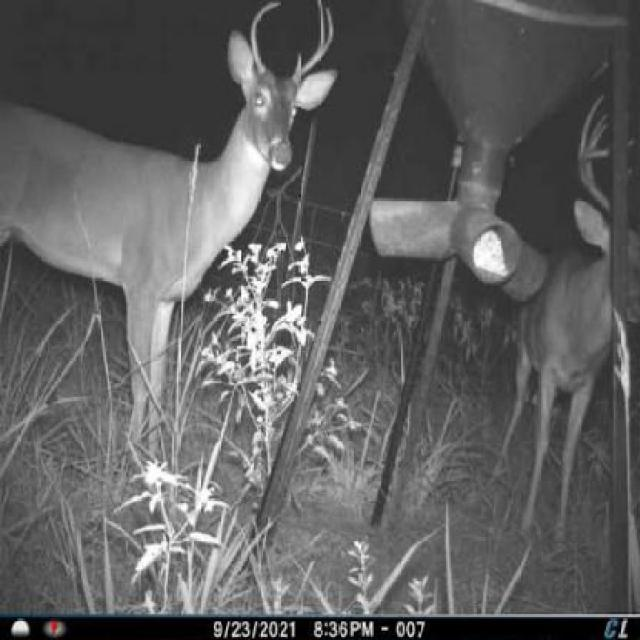Deer: (0, 0, 348, 491), (498, 83, 639, 565)
